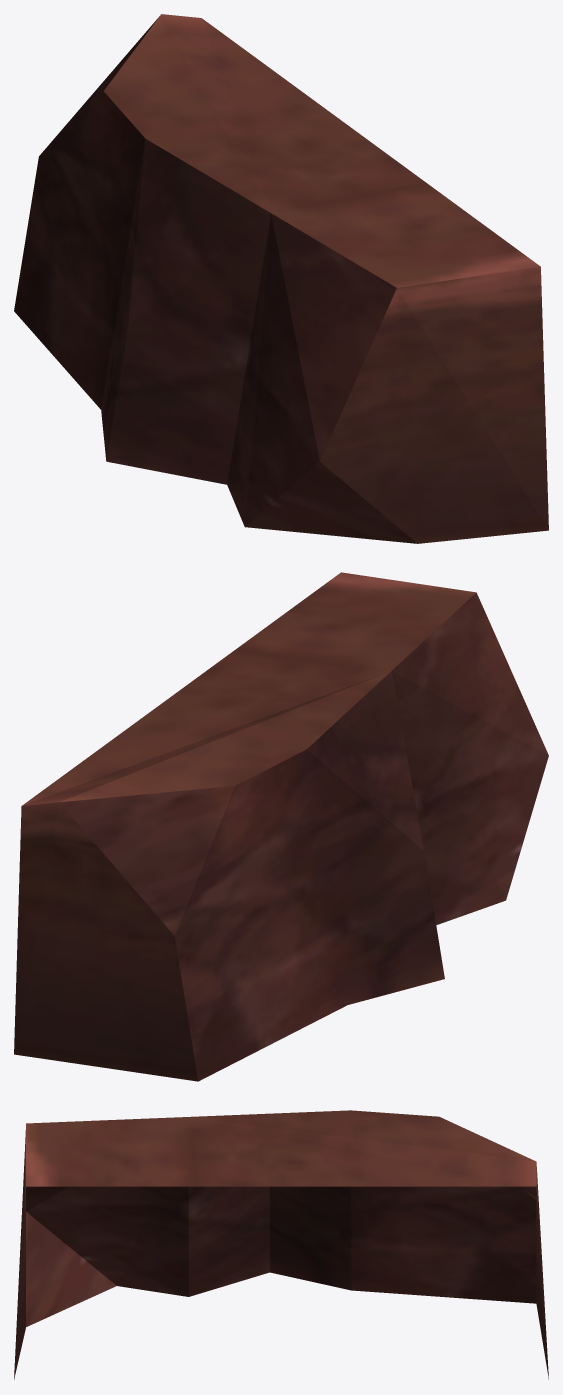
Rendered from lava_cap_end_01.fbx.
3 renders of one model, top to bottom at view 1: azimuth 30°, elevation 25°; view 2: azimuth 150°, elevation 25°; view 3: azimuth 270°, elevation 25°, orthographic. The views are drawn at different scales.
Visible parts, largest first — view 1: obj0.186; view 2: obj0.186; view 3: obj0.186.
Part boxes in pixels (x1=…): obj0.186: x1=14, y1=14, x2=548, y2=543; obj0.186: x1=14, y1=572, x2=548, y2=1081; obj0.186: x1=14, y1=1110, x2=548, y2=1379.
Bounding box in the file's own units: 0.5533 × 0.5268 × 1.25.
